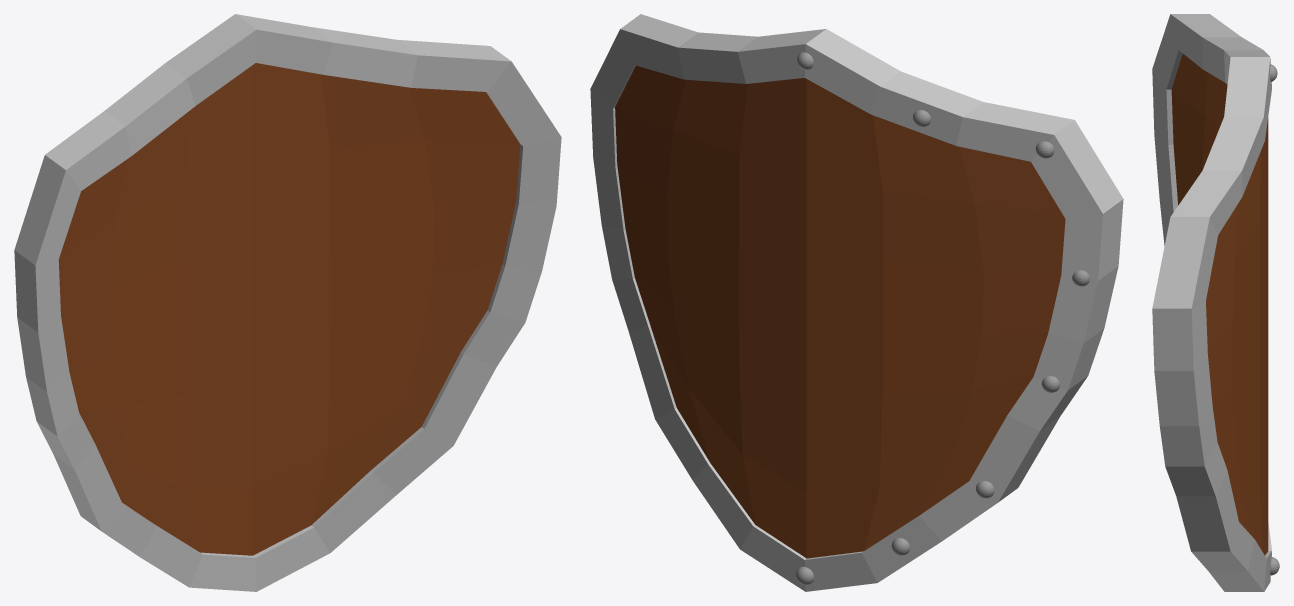
File: shield.glb
3 renders of one model, left to right at view 1: azimuth 30°, elevation 25°; view 2: azimuth 150°, elevation 25°; view 3: azimuth 270°, elevation 25°, orthographic. The views are drawn at different scales.
Parts seen in each view (by area): view 1: 平面.002, 平面; view 2: 平面.001, 平面, 球.007; view 3: 平面, 平面.001, 平面.002.
Boxes of the visible parts, bbox=[...] form: 平面.002: bbox=[58, 63, 520, 555]; 平面: bbox=[14, 14, 561, 591]; 平面.001: bbox=[615, 65, 1065, 558]; 平面: bbox=[590, 14, 1123, 591]; 球.007: bbox=[891, 110, 1089, 555]; 平面: bbox=[1152, 14, 1271, 591]; 平面.001: bbox=[1206, 118, 1268, 555]; 平面.002: bbox=[1171, 54, 1227, 205].
Size of the model in its own units: 2.39 by 2.44 by 0.5373.
